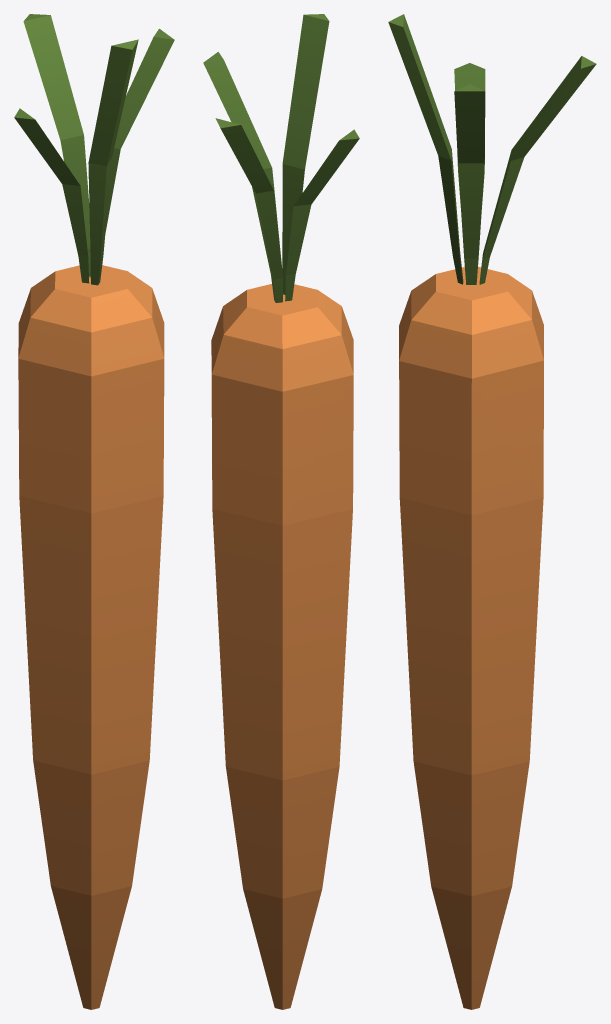
The model's file is Crop_Carrot_02.obj.
3 views of the same model, side by side, from view 1: azimuth 30°, elevation 25°; view 2: azimuth 150°, elevation 25°; view 3: azimuth 270°, elevation 25° (orthographic). The views are drawn at different scales.
Visible parts, largest first — view 1: Crop_Carrot_02; view 2: Crop_Carrot_02; view 3: Crop_Carrot_02.
Boxes of the visible parts, x1=… form: Crop_Carrot_02: x1=14, y1=14, x2=174, y2=1009; Crop_Carrot_02: x1=203, y1=14, x2=359, y2=1009; Crop_Carrot_02: x1=388, y1=14, x2=596, y2=1009.
Bounding box in the file's own units: 0.0879 × 0.5432 × 0.1042.
1 material, 1 textured.
